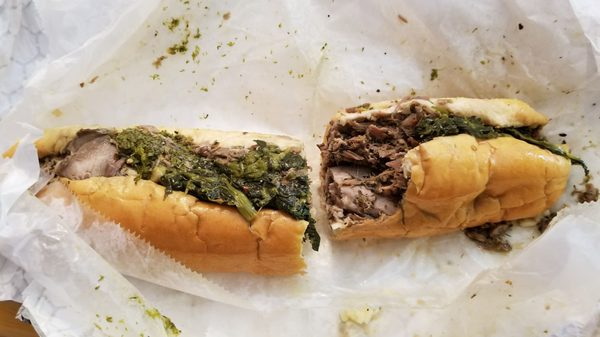curry: (111, 126, 258, 225)
soup: (316, 95, 573, 242)
